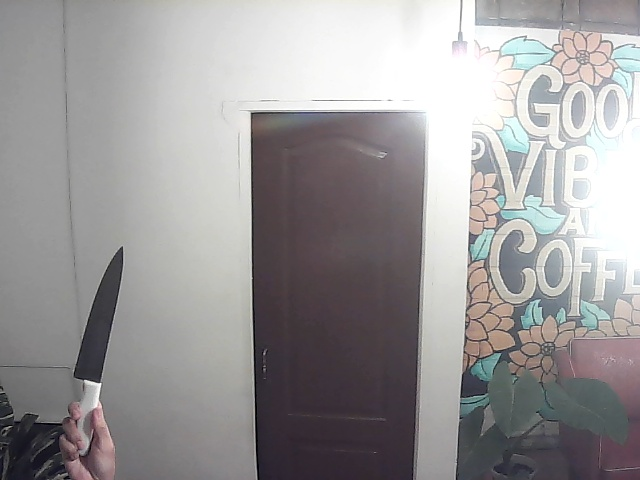cuchillo: (65, 241, 130, 392)
